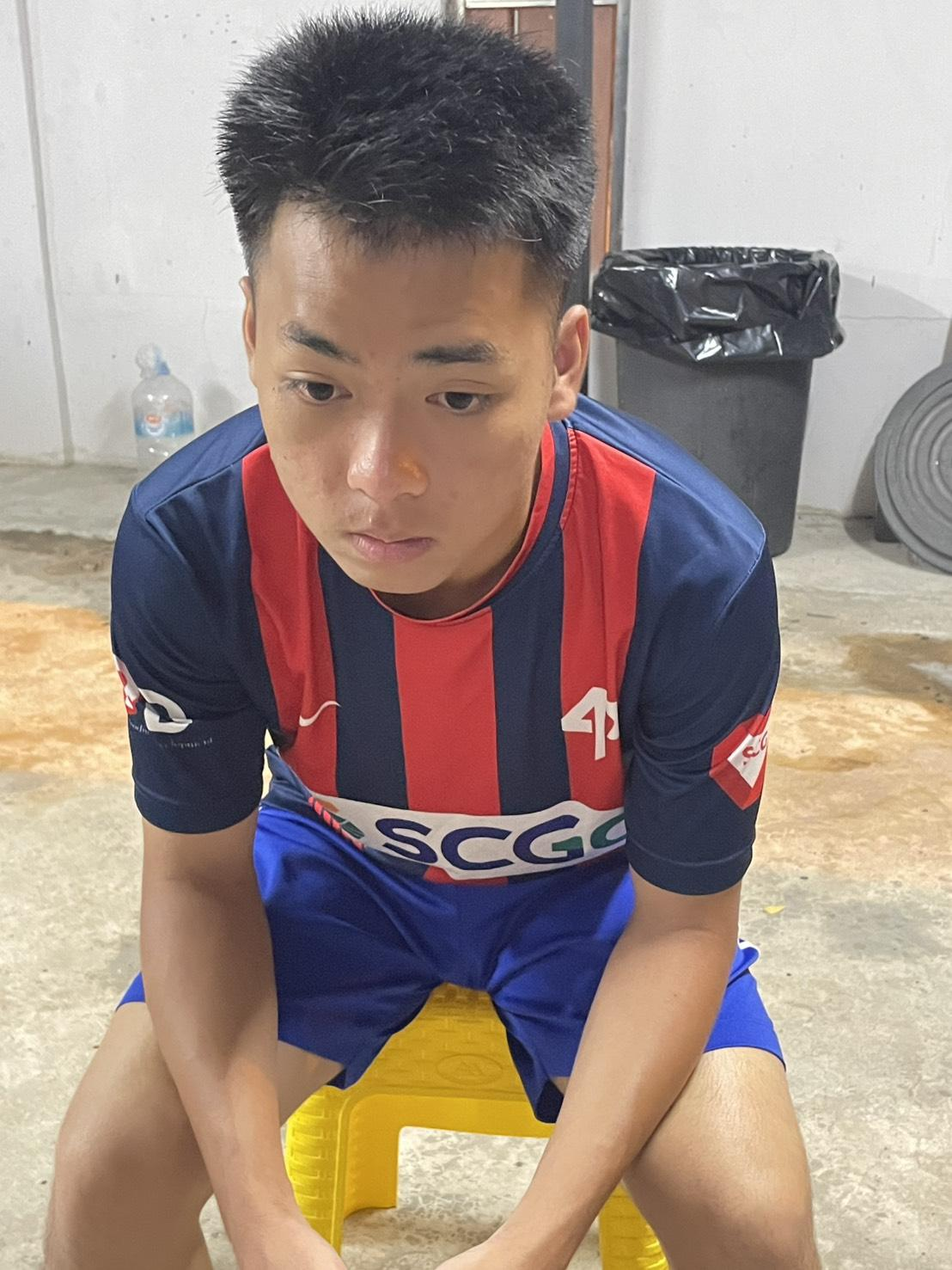BadPosture: (113, 14, 778, 895)
